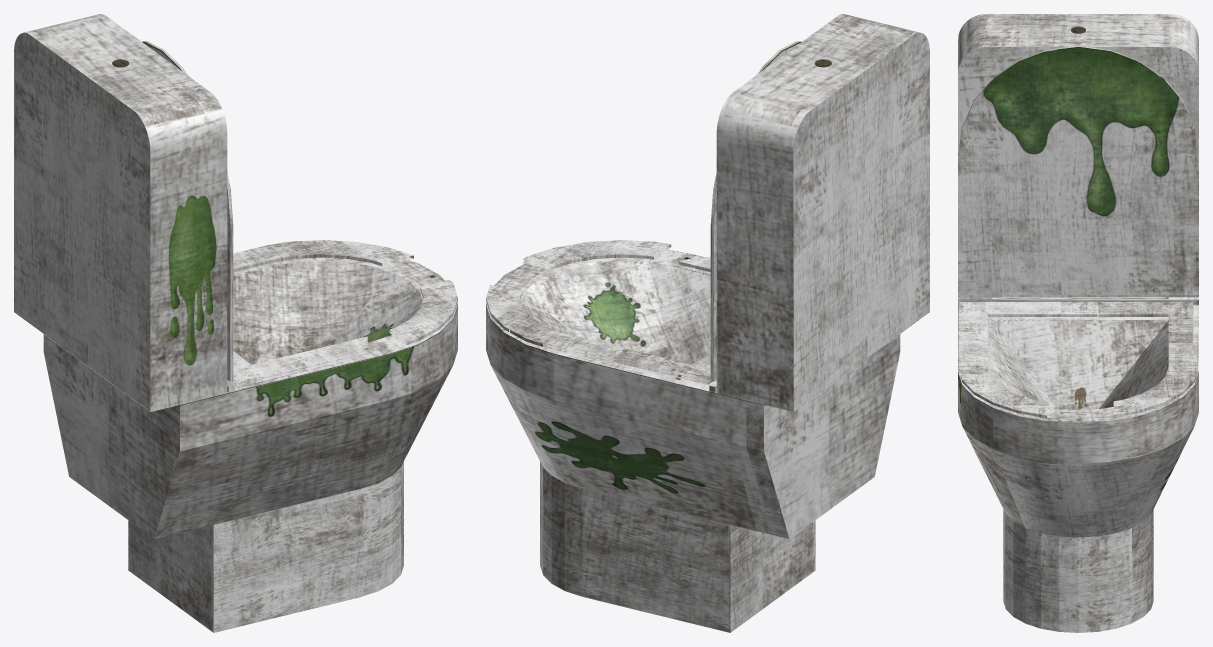
3 renders of one model, left to right at view 1: azimuth 30°, elevation 25°; view 2: azimuth 150°, elevation 25°; view 3: azimuth 270°, elevation 25°, orthographic. The views are drawn at different scales.
Parts seen in each view (by area): view 1: Cisterna, Váter, Apoyo, Tapa, TapaCubierta; view 2: Cisterna, Váter, Apoyo, Tapa, TapaCubierta; view 3: TapaCubierta, Váter, Apoyo, Cisterna, Tapa.
Boxes of the visible parts, x1,y1,x2,y2 form: Cisterna: (14,14,227,411); Váter: (43,257,457,538); Apoyo: (128,459,403,632); Tapa: (231,240,457,387); TapaCubierta: (141,41,233,381); Cisterna: (716,14,929,411); Váter: (486,250,900,538); Apoyo: (540,461,815,632); Tapa: (486,240,712,384); TapaCubierta: (710,41,802,381); TapaCubierta: (958,45,1198,298); Váter: (958,297,1198,537); Apoyo: (1003,509,1153,632); Cisterna: (958,14,1198,297); Tapa: (958,301,1197,418).
Size of the model in its own units: 2.42 by 3.58 by 1.6.
6 materials, 6 textured.
